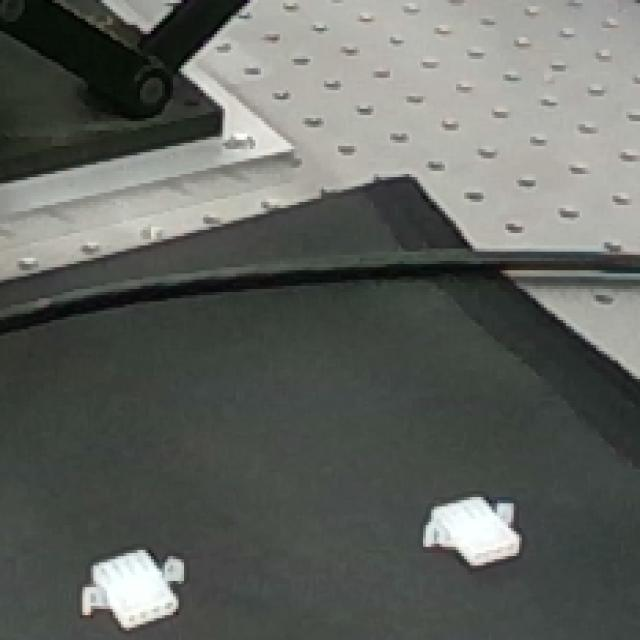Target: (76, 524, 192, 634), (404, 495, 537, 572)
